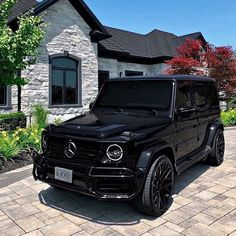car: (26, 70, 227, 219)
